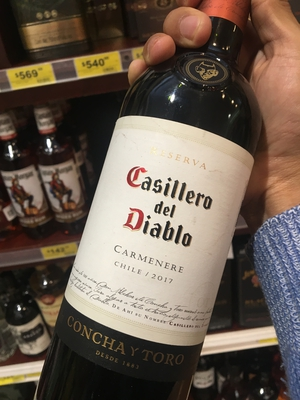casillero del diablo carmenere: (51, 7, 255, 400)
